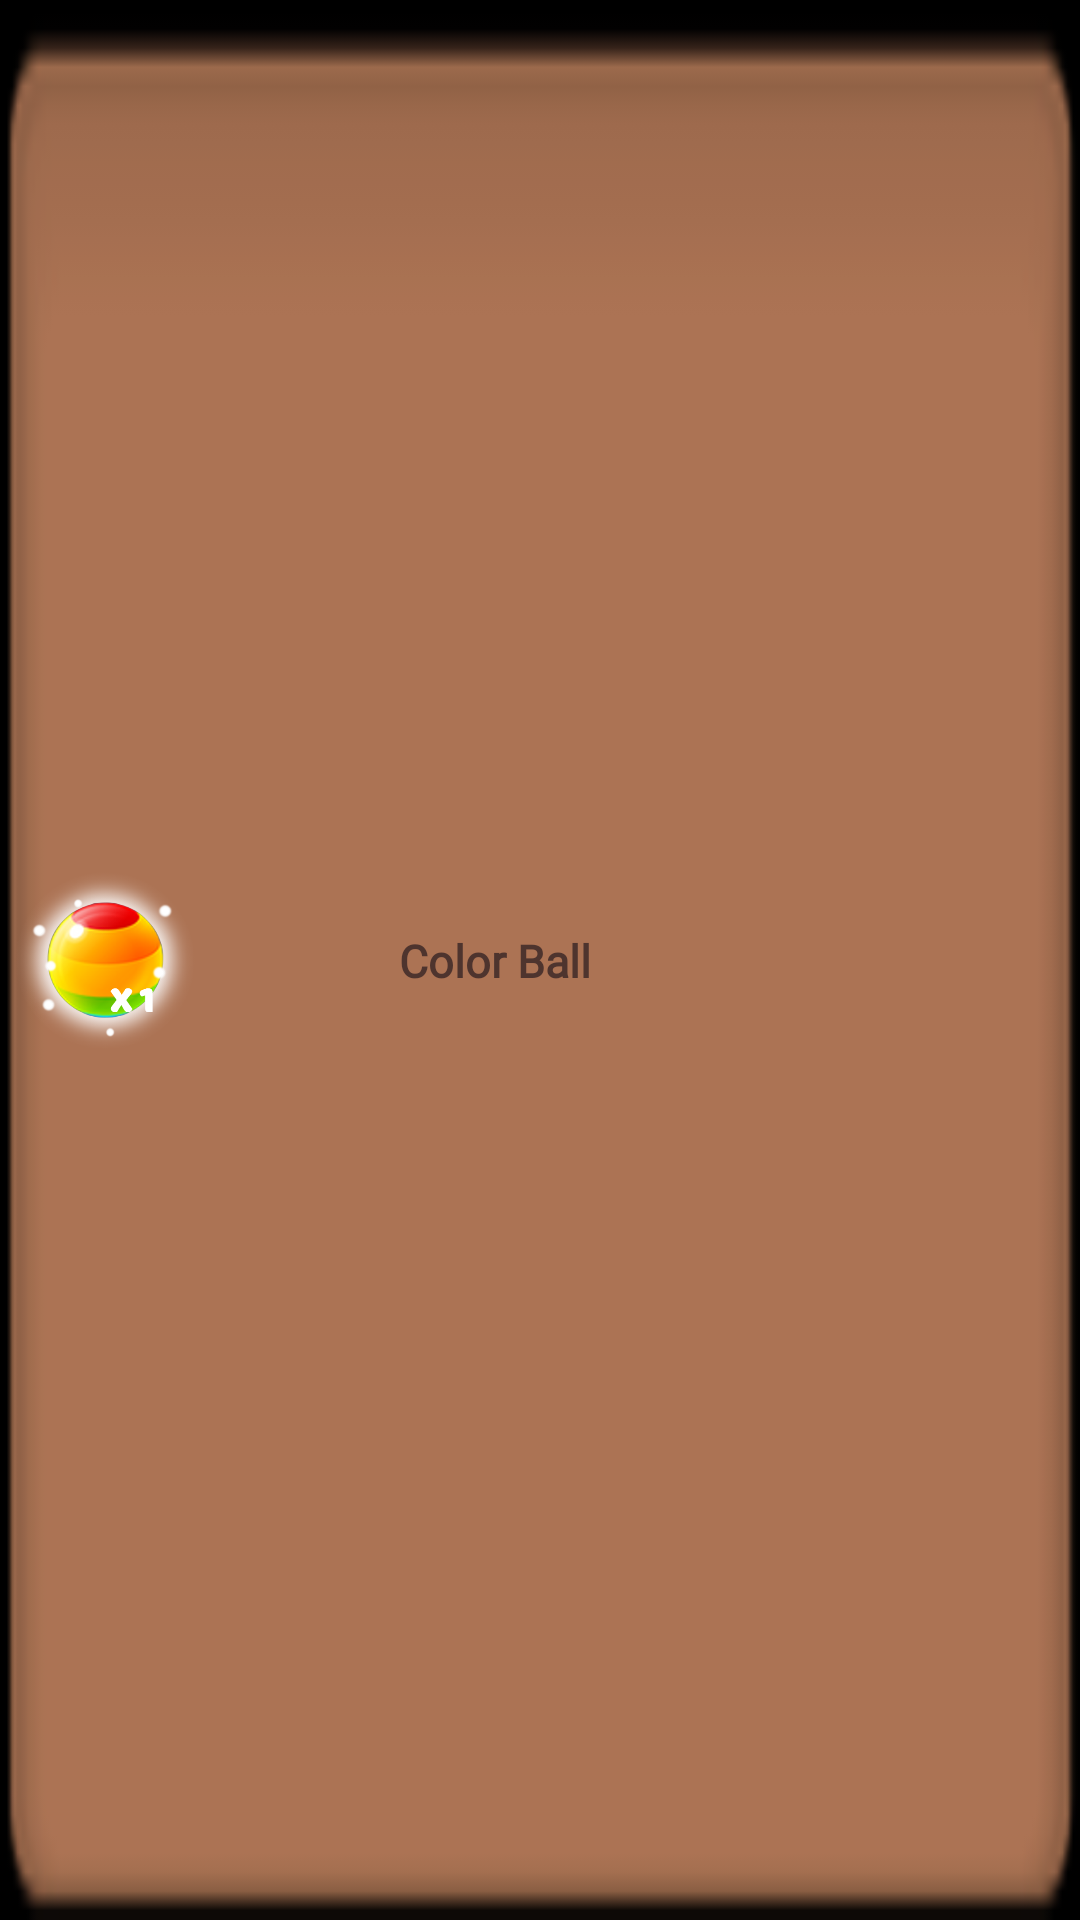

Screen size 1080px×1920px. Icon name, then its center in pixels as (x=x, y=y):
product ball: (x=105, y=960)
